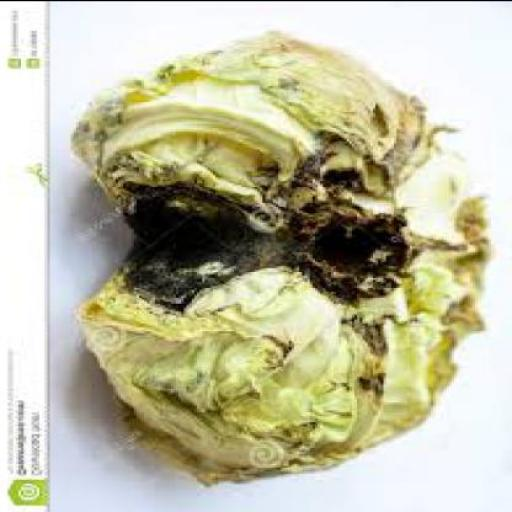biodegradable: (73, 32, 497, 490)
